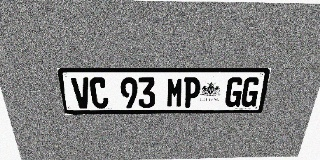3: (138, 77, 155, 108)
9: (120, 77, 138, 108)
C: (89, 77, 109, 108)
G: (240, 77, 261, 107), (224, 77, 244, 107)
M: (166, 77, 184, 108)
P: (183, 77, 201, 107)
V: (71, 77, 92, 108)
